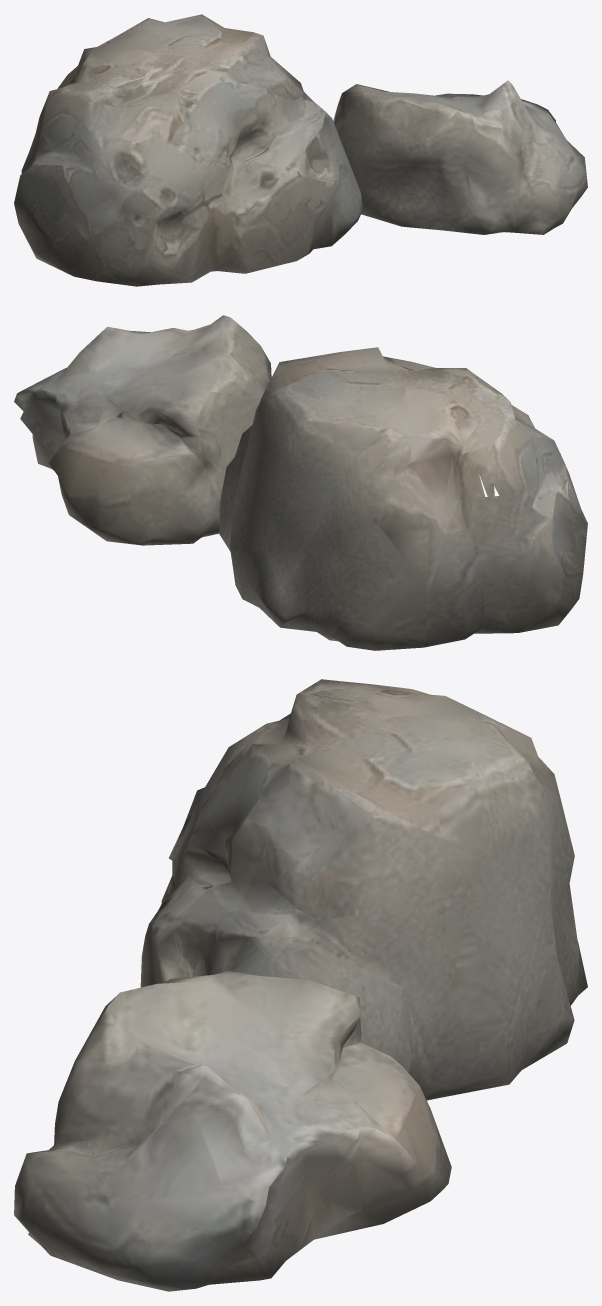
File: rock_pair.gltf
The picture shows the model from 3 angles, top to bottom: view 1: azimuth 30°, elevation 25°; view 2: azimuth 150°, elevation 25°; view 3: azimuth 270°, elevation 25°; orthographic projection. The views are drawn at different scales.
Visible parts, largest first — view 1: rock_pair; view 2: rock_pair; view 3: rock_pair.
Part boxes in pixels (bbox=[...]): rock_pair: bbox=[14, 14, 587, 286]; rock_pair: bbox=[14, 315, 587, 650]; rock_pair: bbox=[14, 679, 587, 1291].
Size of the model in its own units: 1.31 by 0.4409 by 0.7867.
Materials: 1 (1 with a texture image).
